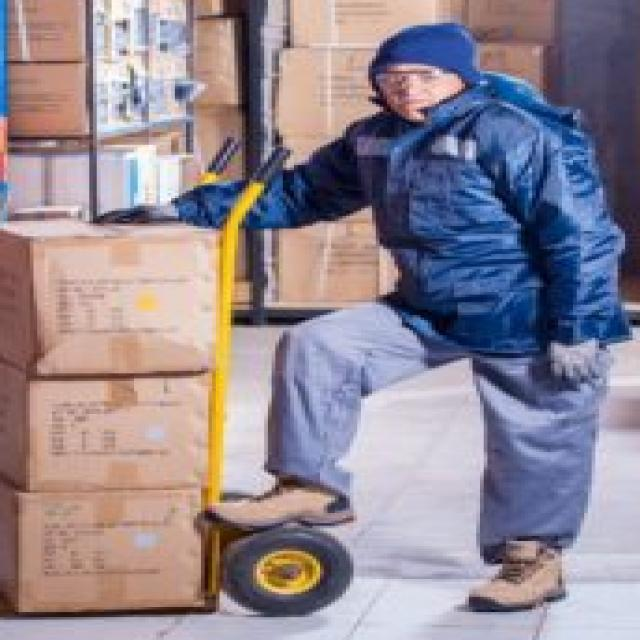shoes: (204, 464, 582, 616)
